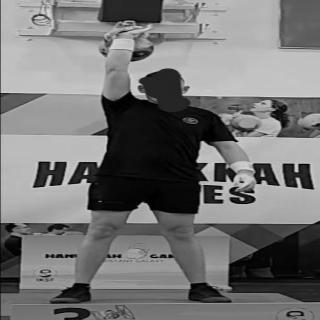kettlebell: (98, 25, 160, 63)
